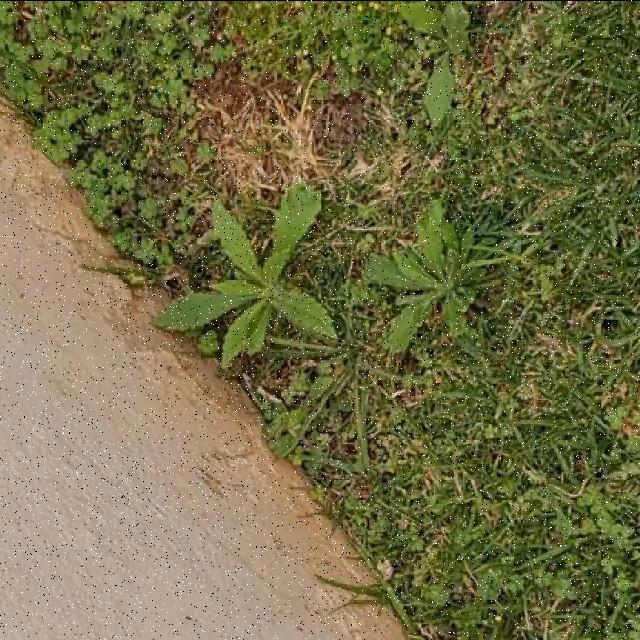weed: (155, 182, 336, 365), (366, 200, 485, 349), (402, 0, 472, 122)
